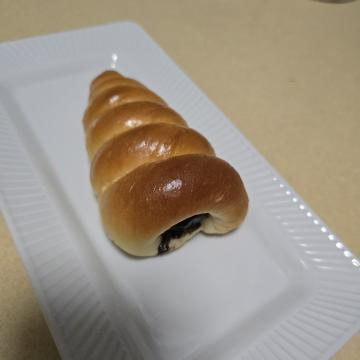cream horn: (52, 109, 272, 290)
